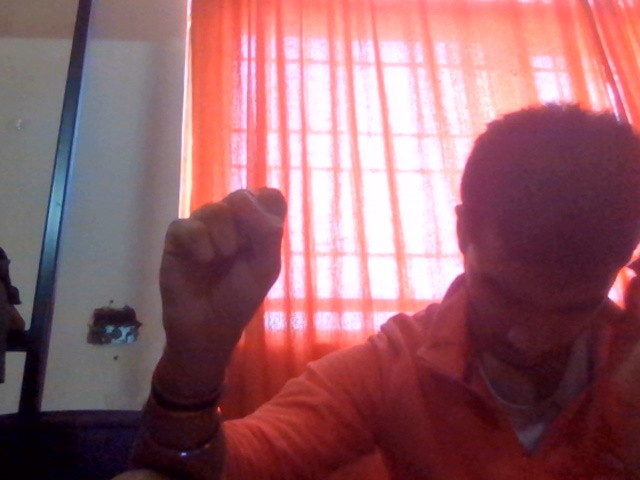S: (131, 166, 322, 382)
